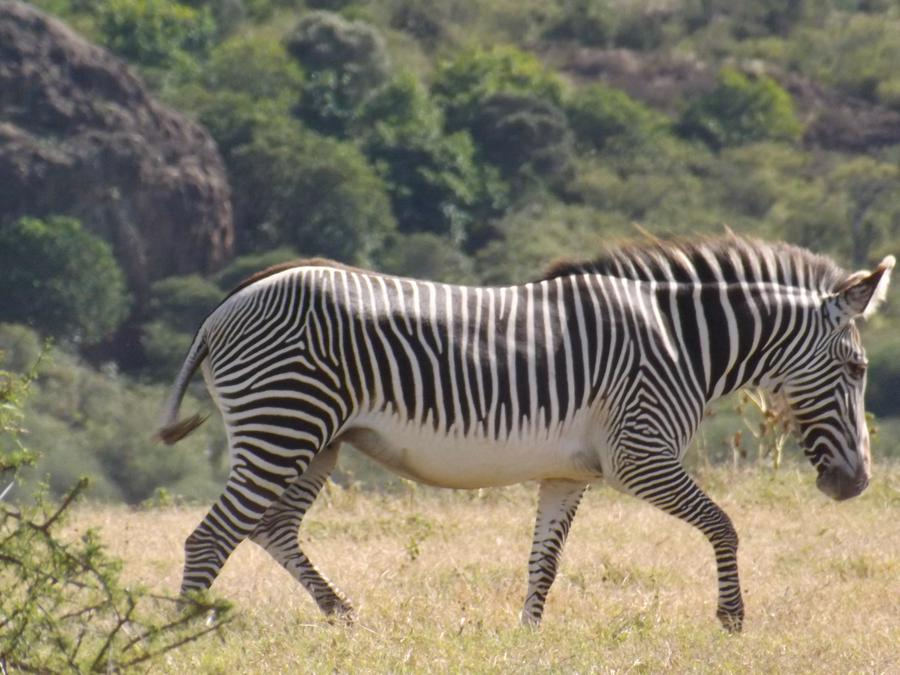zebra_grevys: (180, 256, 697, 455)
